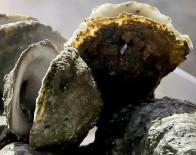3: (66, 2, 193, 128), (3, 40, 103, 152), (0, 14, 65, 117)
Oyster-Closed: (106, 98, 196, 155), (0, 120, 60, 155)
